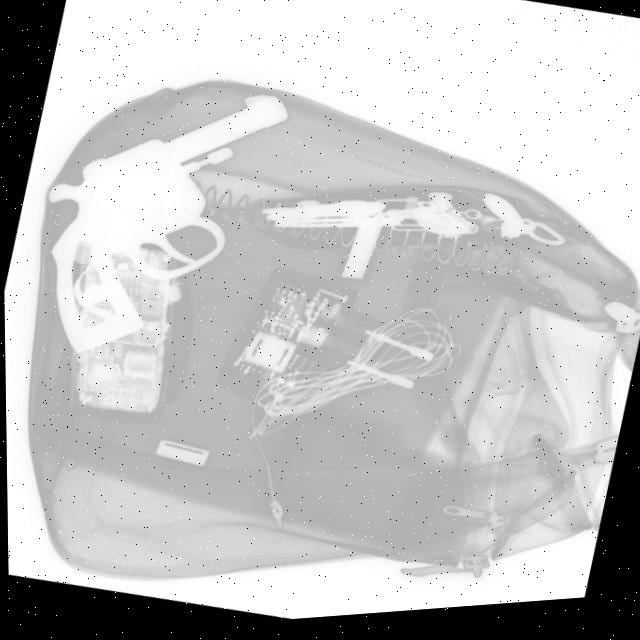pistol: (8, 49, 299, 398)
